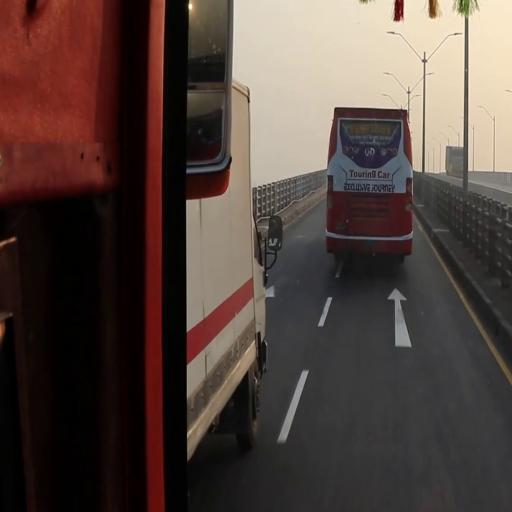bus: (326, 107, 414, 256)
pickup: (179, 78, 282, 460), (446, 146, 467, 179)
